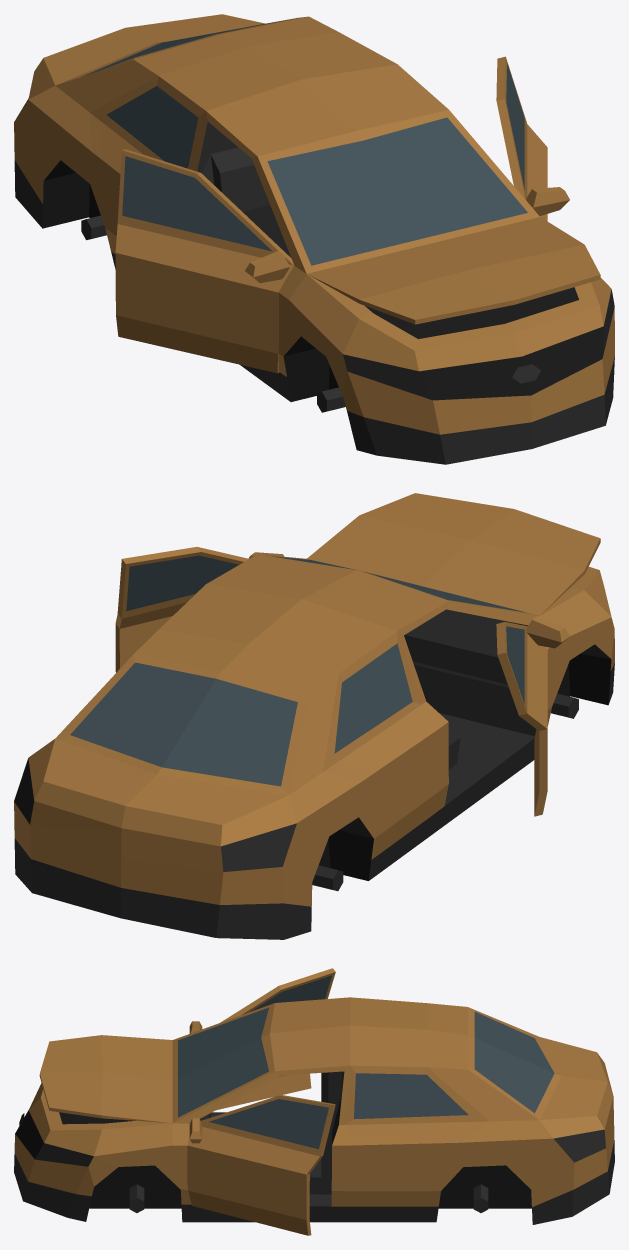
The model's file is apocalypse_car-broken.fbx.
The picture shows the model from 3 angles, top to bottom: view 1: azimuth 30°, elevation 25°; view 2: azimuth 150°, elevation 25°; view 3: azimuth 270°, elevation 25°; orthographic projection. The views are drawn at different scales.
Parts seen in each view (by area): view 1: apocalypse_car_broken; view 2: apocalypse_car_broken; view 3: apocalypse_car_broken.
Part boxes in pixels (<box>): apocalypse_car_broken: <box>14,14,614,464</box>; apocalypse_car_broken: <box>14,493,614,939</box>; apocalypse_car_broken: <box>14,968,614,1235</box>.
Size of the model in its own units: 121 by 55.77 by 200.
